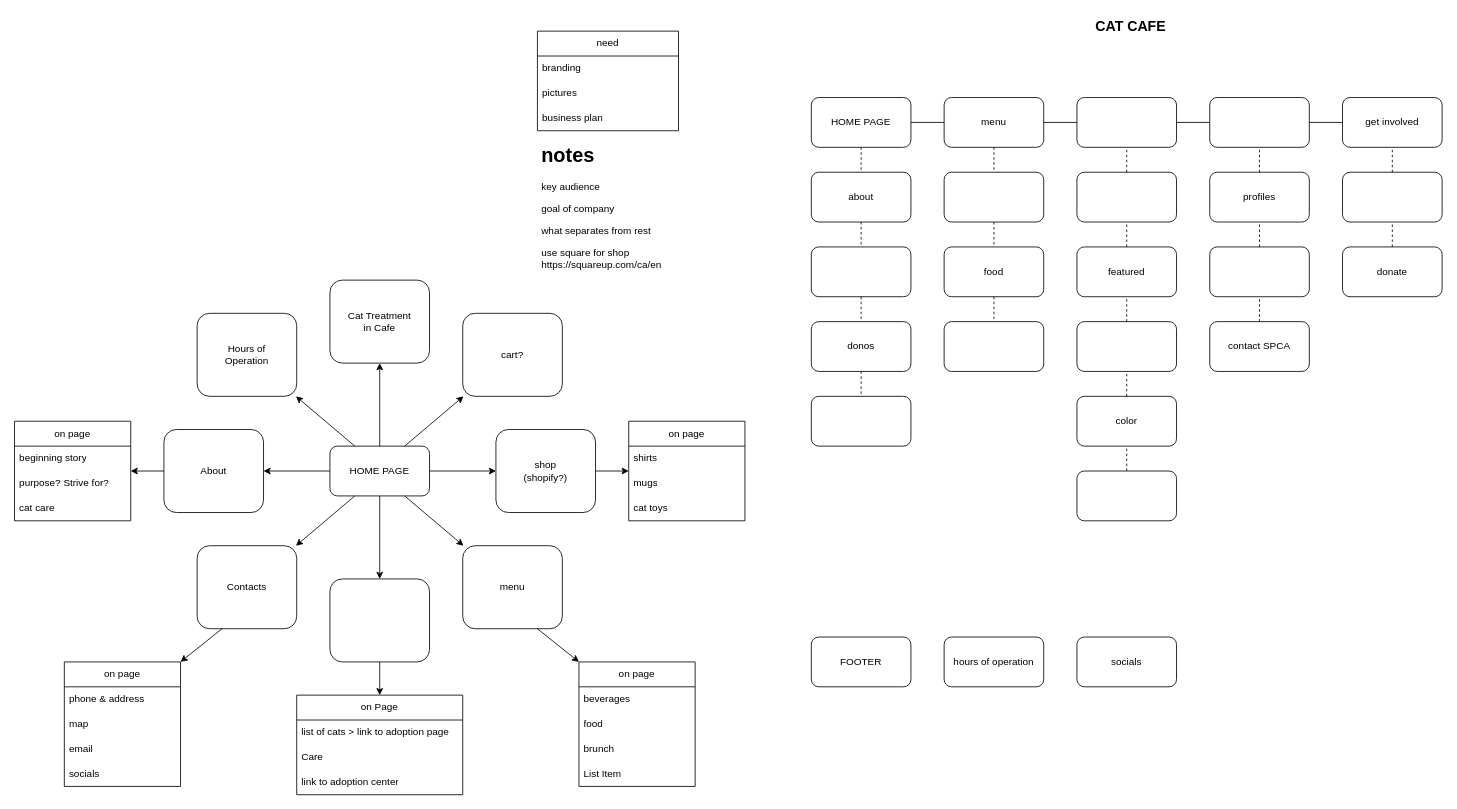
This 1457x809 diagram has some shape labels left out. Here are the shapes that lost their labels. From the top down, the centre of each, then its label:
point 1126,122: shop
point 1259,122: meet the cats
point 993,196: drinks
point 1126,196: category
point 1392,196: volunteer
point 860,271: cafe rules
point 1259,271: adoption
point 993,346: cat treats
point 1126,346: price
point 860,420: map location
point 1126,495: sort by
point 379,620: adoption & care taking
